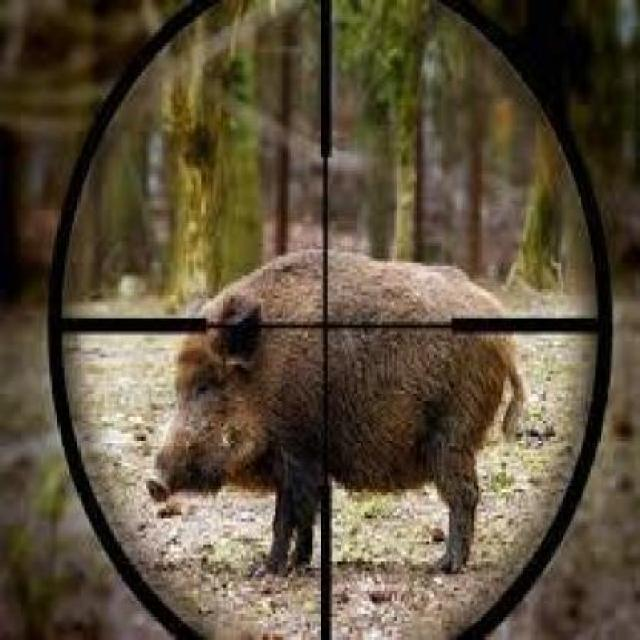wildboar: (139, 242, 530, 587)
